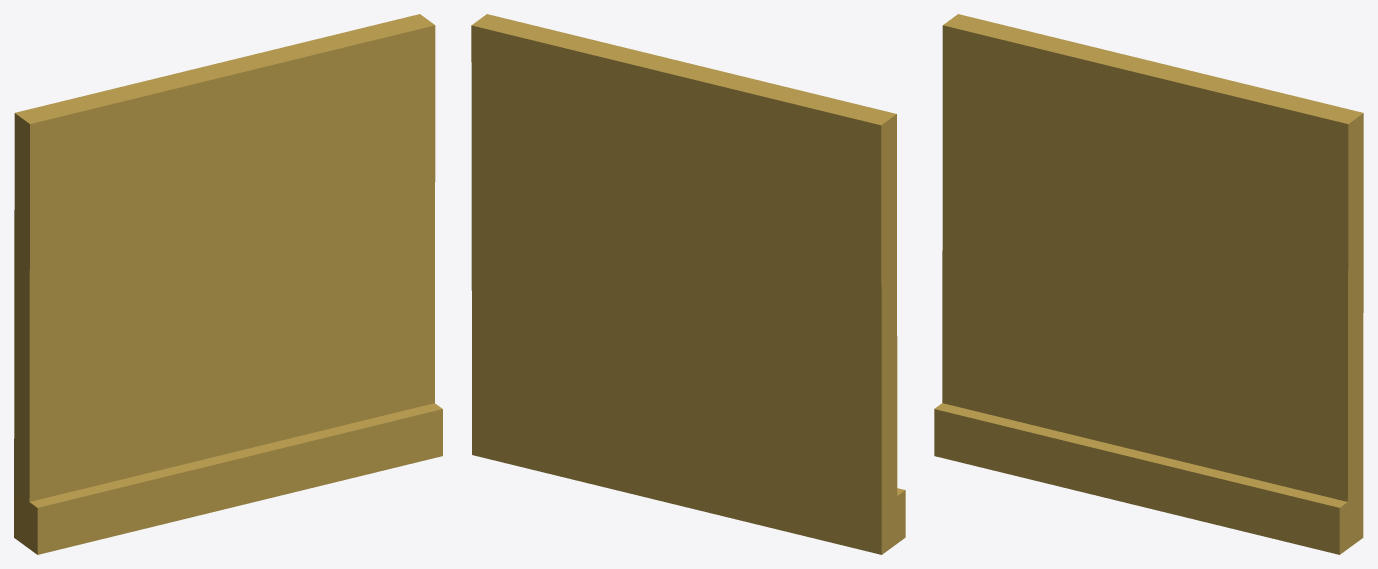
Rendered from env_Parede.fbx.
3 views of the same model, side by side, from view 1: azimuth 30°, elevation 25°; view 2: azimuth 150°, elevation 25°; view 3: azimuth 330°, elevation 25° (orthographic).
Parts seen in each view (by area): view 1: env_Parede; view 2: env_Parede; view 3: env_Parede.
Part boxes in pixels (box(x1,y1,x2,y2)): env_Parede: box(14, 14, 442, 554); env_Parede: box(471, 14, 905, 554); env_Parede: box(934, 14, 1363, 554).
Size of the model in its own units: 1000 by 1000 by 100.
